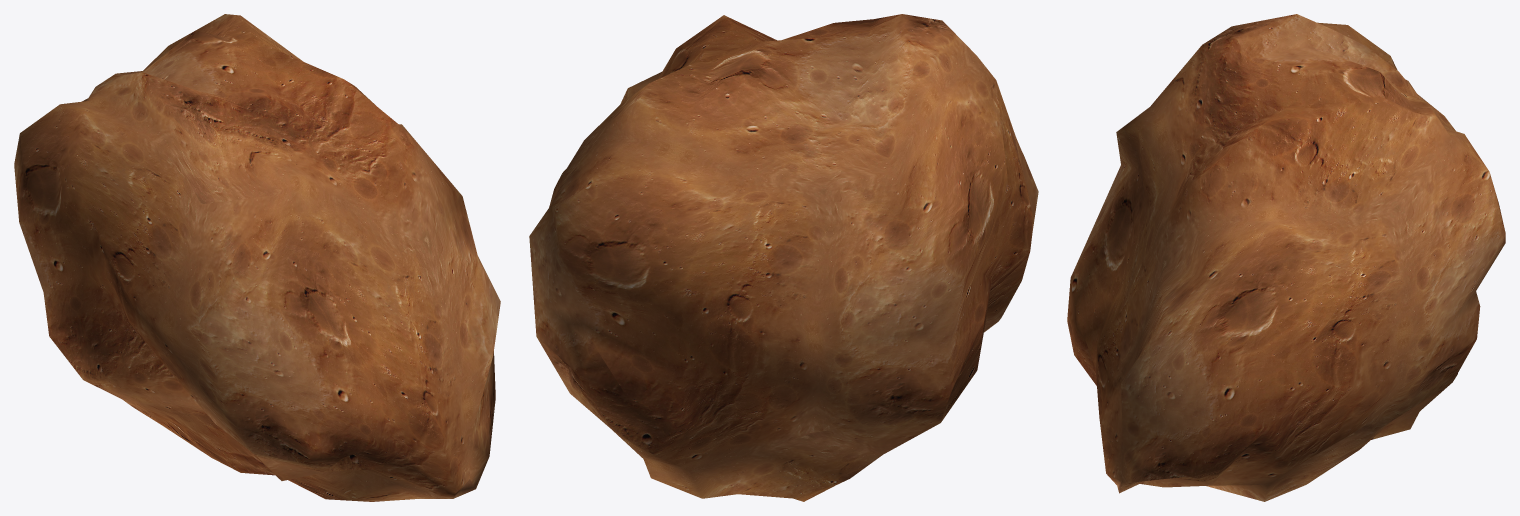
Rendered from Asteroid_06_L2.FBX.
3 views of the same model, side by side, from view 1: azimuth 30°, elevation 25°; view 2: azimuth 150°, elevation 25°; view 3: azimuth 270°, elevation 25° (orthographic). The views are drawn at different scales.
Parts seen in each view (by area): view 1: Asteroid; view 2: Asteroid; view 3: Asteroid.
Part boxes in pixels (x1=…): Asteroid: x1=14, y1=14, x2=500, y2=501; Asteroid: x1=529, y1=14, x2=1038, y2=501; Asteroid: x1=1067, y1=14, x2=1505, y2=501.
Bounding box in the file's own units: 2.15 × 2.21 × 2.24.
